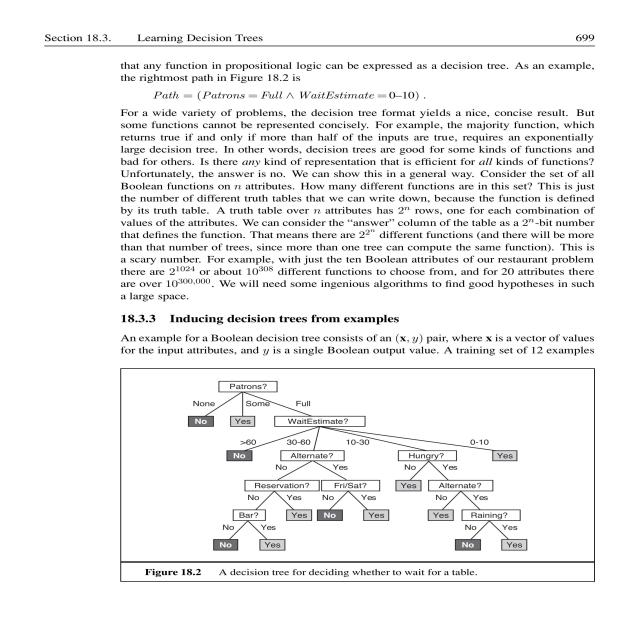diagram: (105, 355, 640, 640)
